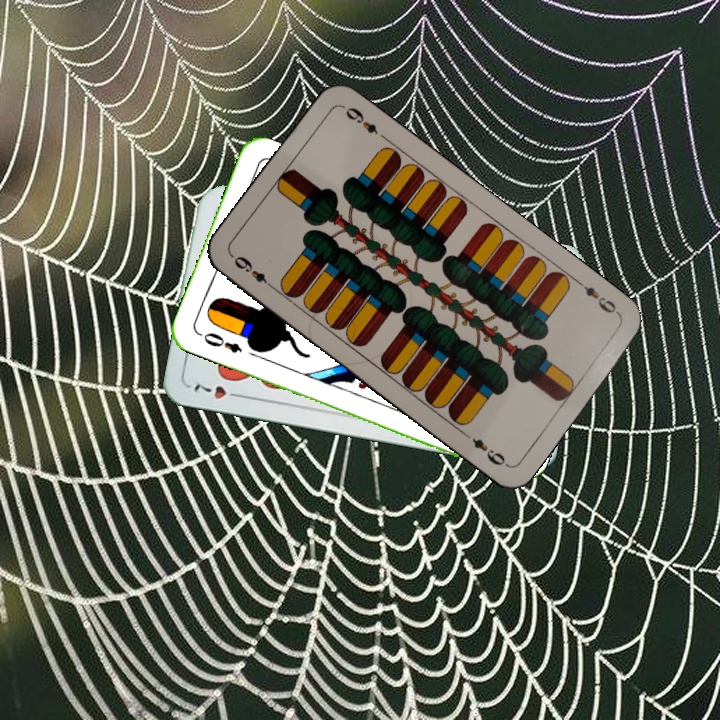E9: (573, 276, 623, 318), (230, 252, 278, 293)
EO: (194, 328, 245, 356)
H7: (190, 379, 246, 402)
